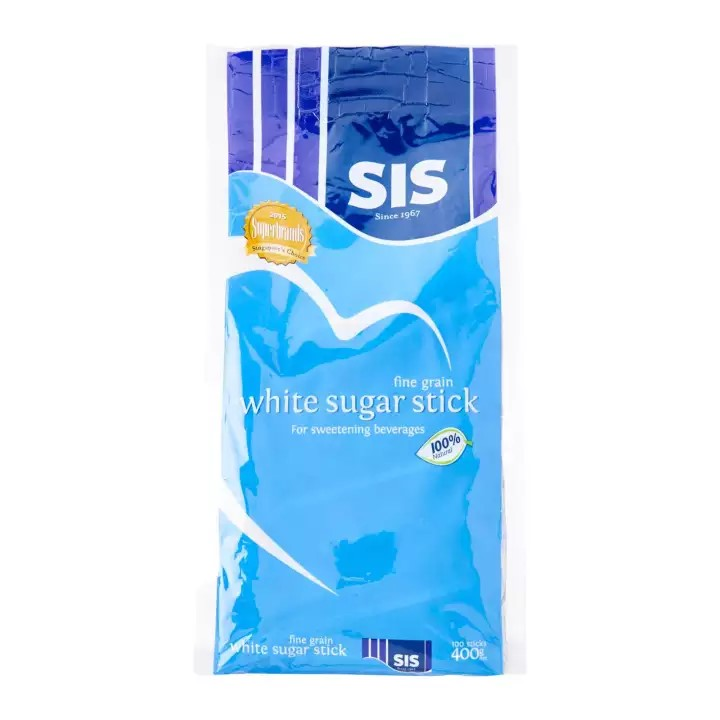sis white sugar: (201, 43, 532, 678)
